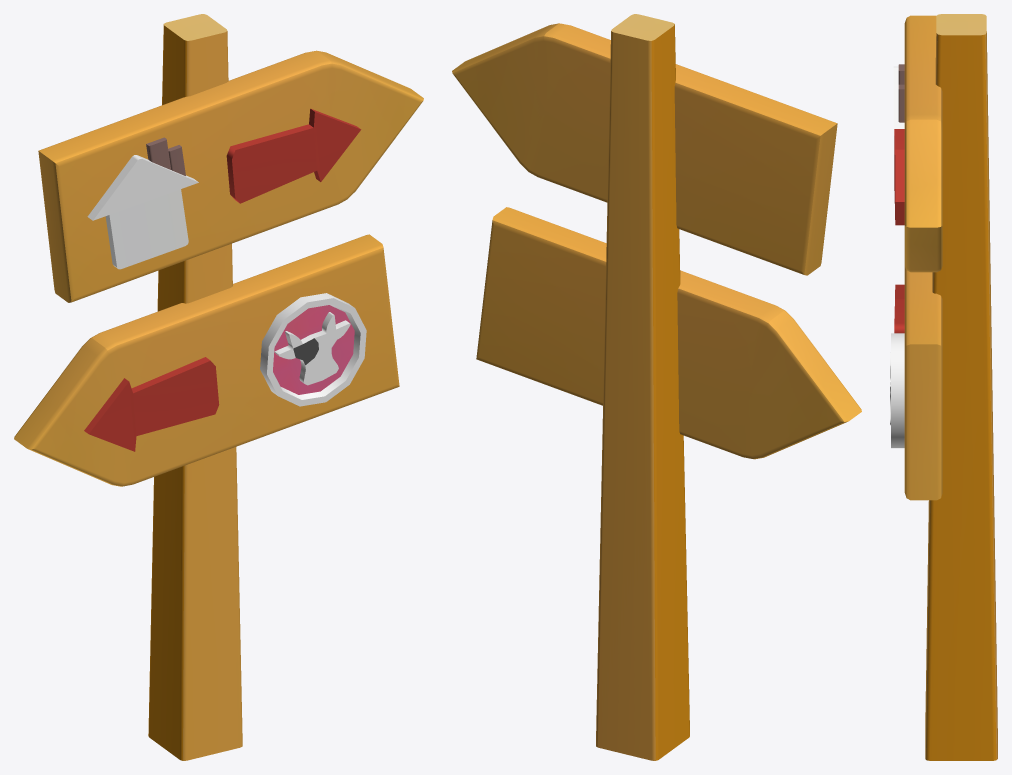
The model's file is Signpost.fbx.
The picture shows the model from 3 angles, left to right: view 1: azimuth 30°, elevation 25°; view 2: azimuth 150°, elevation 25°; view 3: azimuth 270°, elevation 25°; orthographic projection.
Visible parts, largest first — view 1: Signpost; view 2: Signpost; view 3: Signpost.
Part boxes in pixels (bbox=[...]): Signpost: bbox=[14, 14, 423, 760]; Signpost: bbox=[452, 14, 861, 760]; Signpost: bbox=[890, 14, 997, 760].
Bounding box in the file's own units: 131 × 225 × 30.5.
